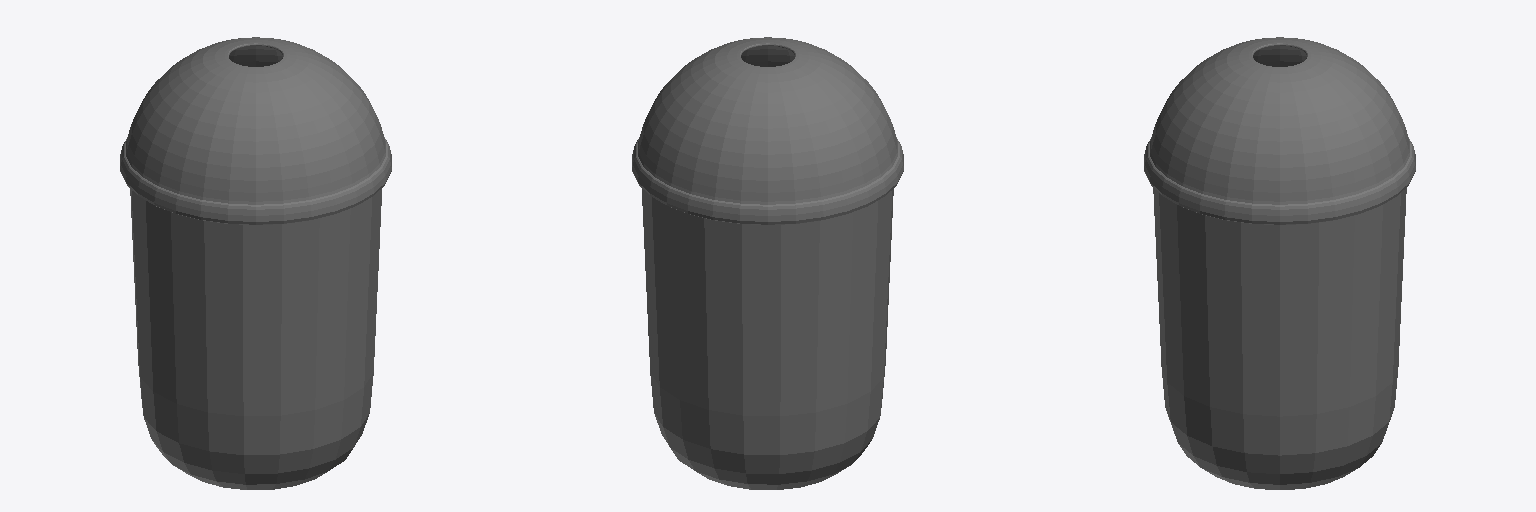
Rendered from Cup.obj.
The picture shows the model from 3 angles: view 1: azimuth 30°, elevation 25°; view 2: azimuth 150°, elevation 25°; view 3: azimuth 270°, elevation 25°; orthographic projection.
Size of the model in its own units: 9.71 by 15.73 by 9.66.